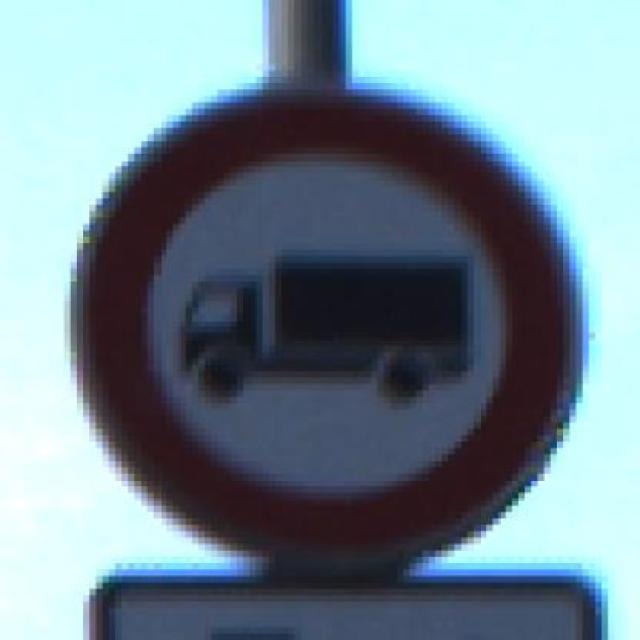Truck traffic is prohibited: (64, 70, 582, 576)
